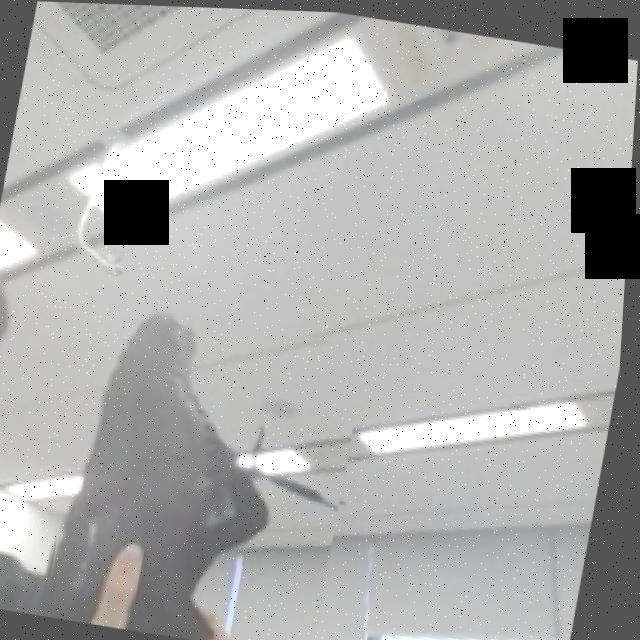shoe: (44, 294, 374, 640)
